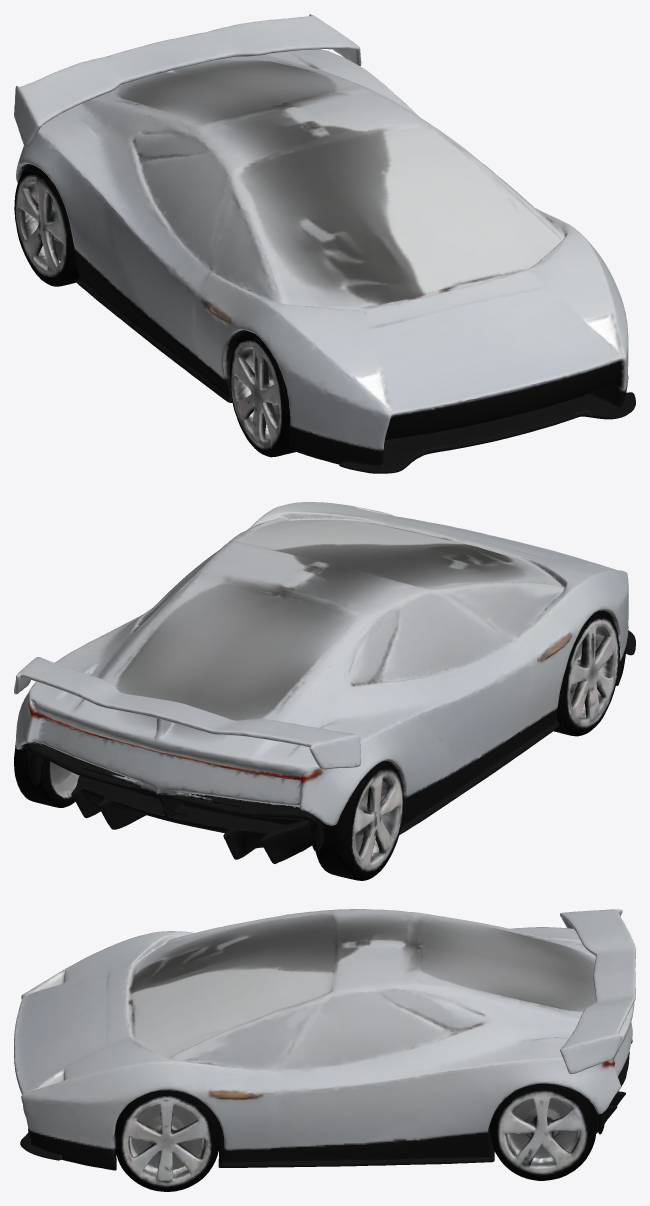
The model's file is roadster.glb.
3 renders of one model, top to bottom at view 1: azimuth 30°, elevation 25°; view 2: azimuth 150°, elevation 25°; view 3: azimuth 270°, elevation 25°, orthographic. The views are drawn at different scales.
Visible parts, largest first — view 1: user-reference-roadster-wedge; view 2: user-reference-roadster-wedge; view 3: user-reference-roadster-wedge.
Part boxes in pixels (x1,y1,x2,y2): user-reference-roadster-wedge: (14, 14, 635, 473); user-reference-roadster-wedge: (14, 502, 635, 880); user-reference-roadster-wedge: (14, 909, 635, 1191).
Bounding box in the file's own units: 0.5589 × 0.3206 × 1.
Materials: 1 (1 with a texture image).
